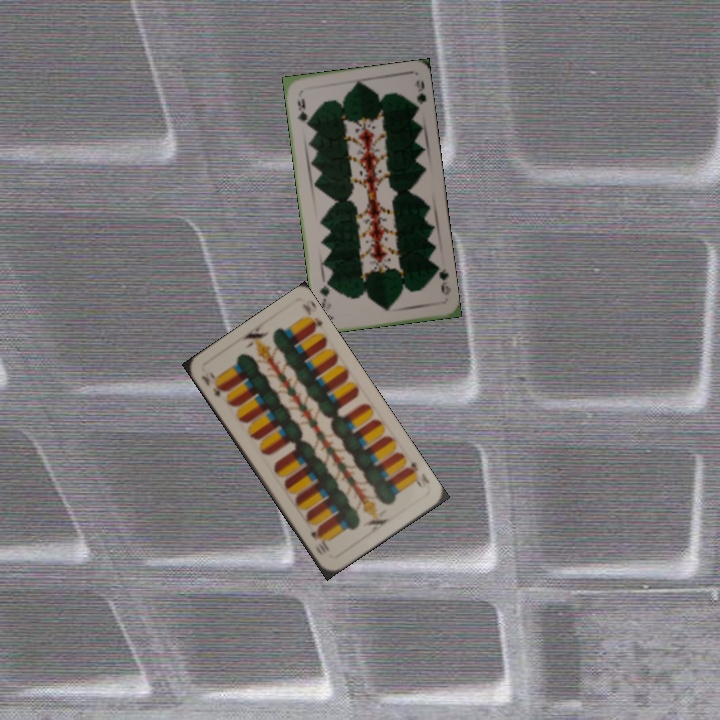E10: (402, 457, 432, 491), (197, 368, 227, 400)
G9: (432, 262, 453, 298), (293, 94, 311, 128)
